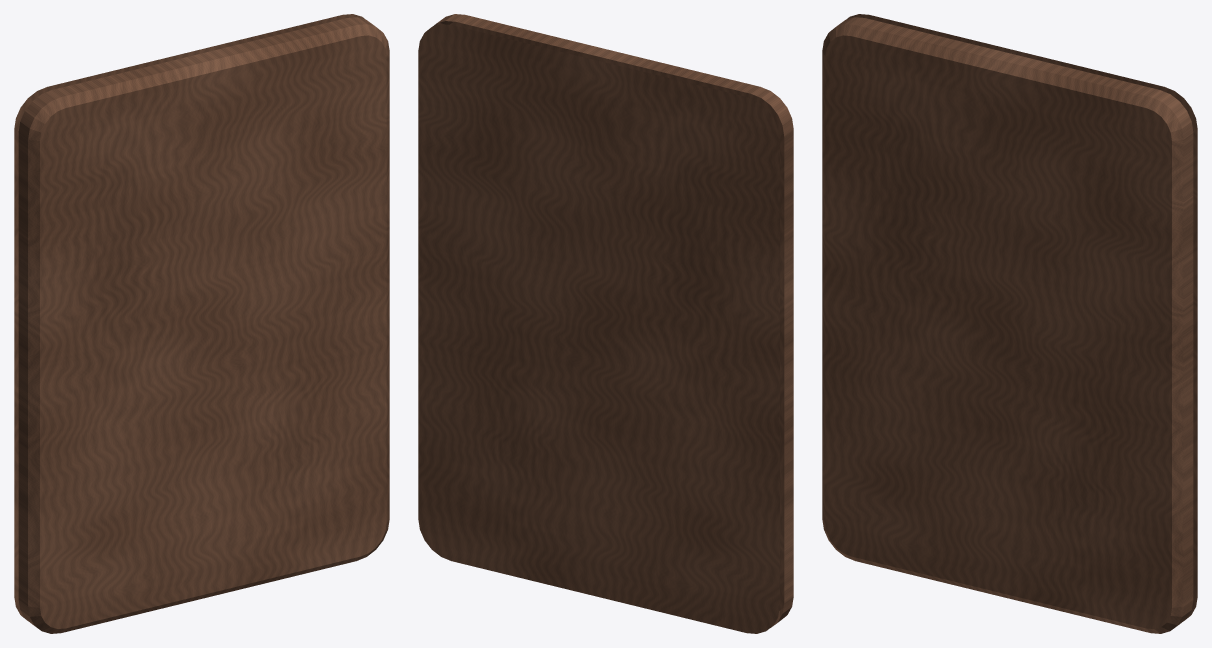
File: Board_Base_Walnut.obj
3 renders of one model, left to right at view 1: azimuth 30°, elevation 25°; view 2: azimuth 150°, elevation 25°; view 3: azimuth 330°, elevation 25°, orthographic.
Parts seen in each view (by area): view 1: Board_Base_Walnut; view 2: Board_Base_Walnut; view 3: Board_Base_Walnut.
Boxes of the visible parts, x1,y1,x2,y2 form: Board_Base_Walnut: [14, 14, 389, 633]; Board_Base_Walnut: [418, 14, 793, 633]; Board_Base_Walnut: [822, 14, 1197, 633].
Size of the model in its own units: 4.8 by 6.8 by 0.42.
1 material, 1 textured.
